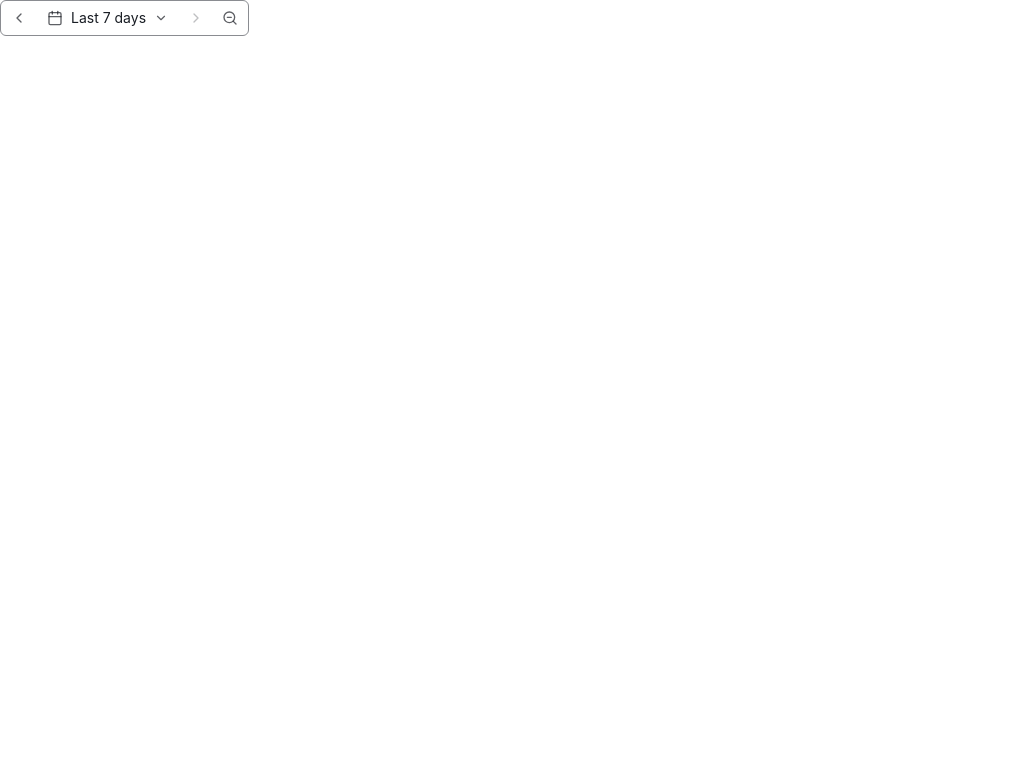
Test: TimeRangePicker › asks for both days once a field is cleared, not before
Click the button "Last 7 days": (108, 18) [37,2,178,34]
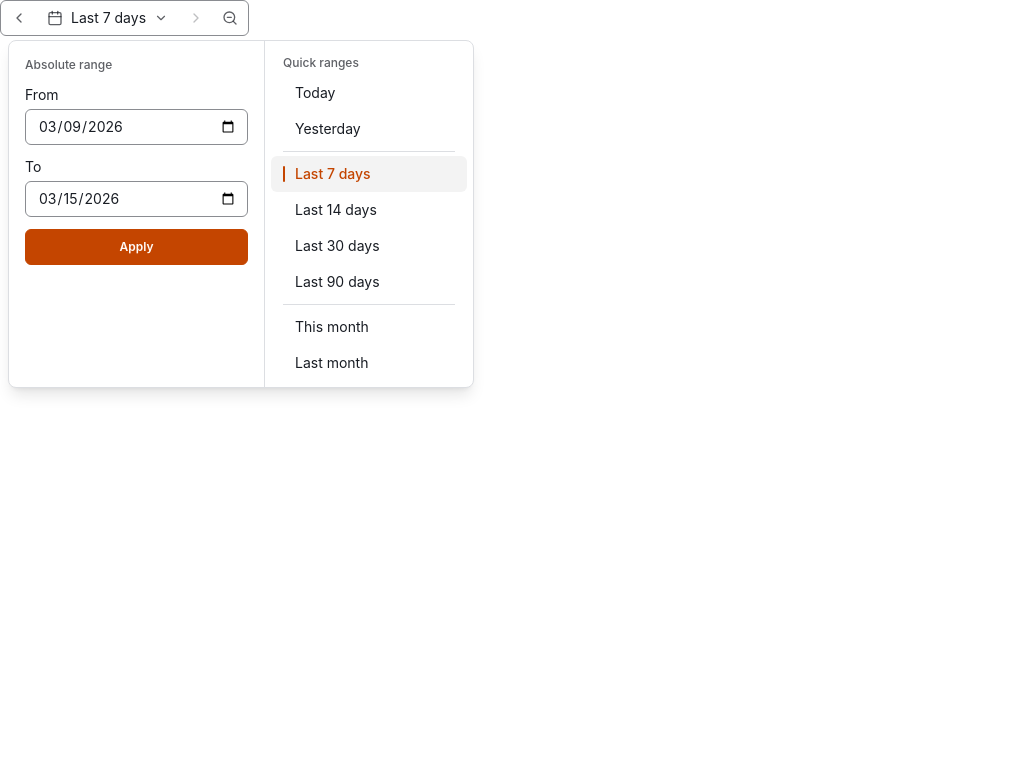
Clear the date field labelled "From": (136, 127) [25,109,248,145]
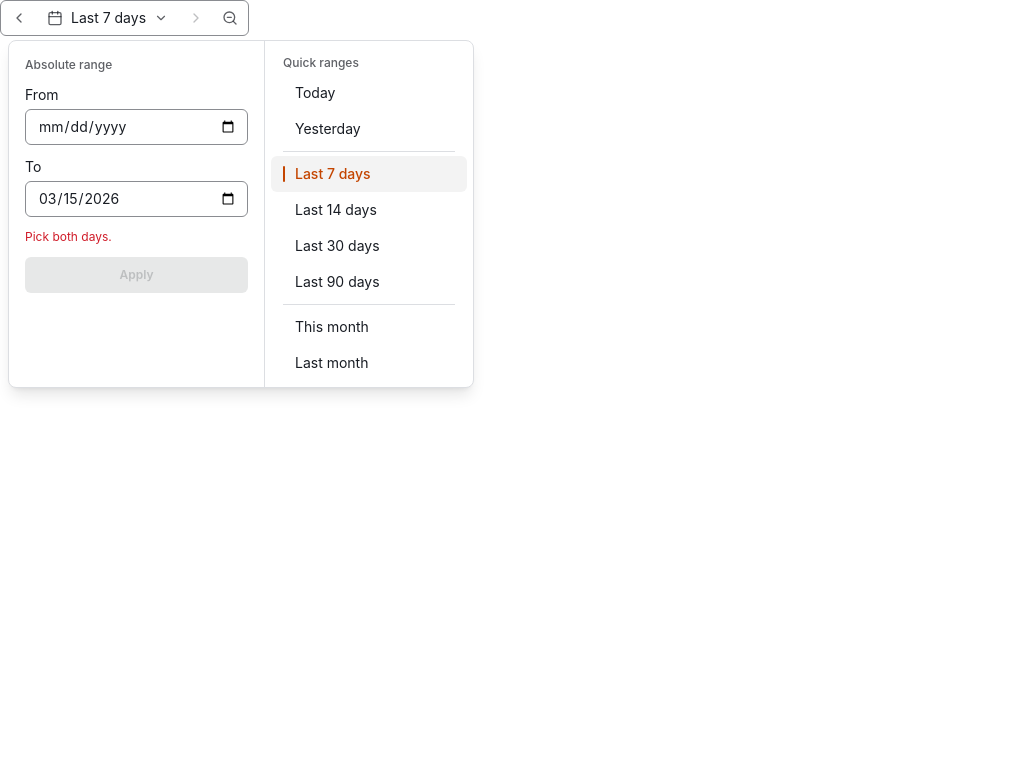
Result: the message "Pick both days." is shown at [25,229,112,244]
Result: the button "Apply" is disabled at [25,257,248,293]
